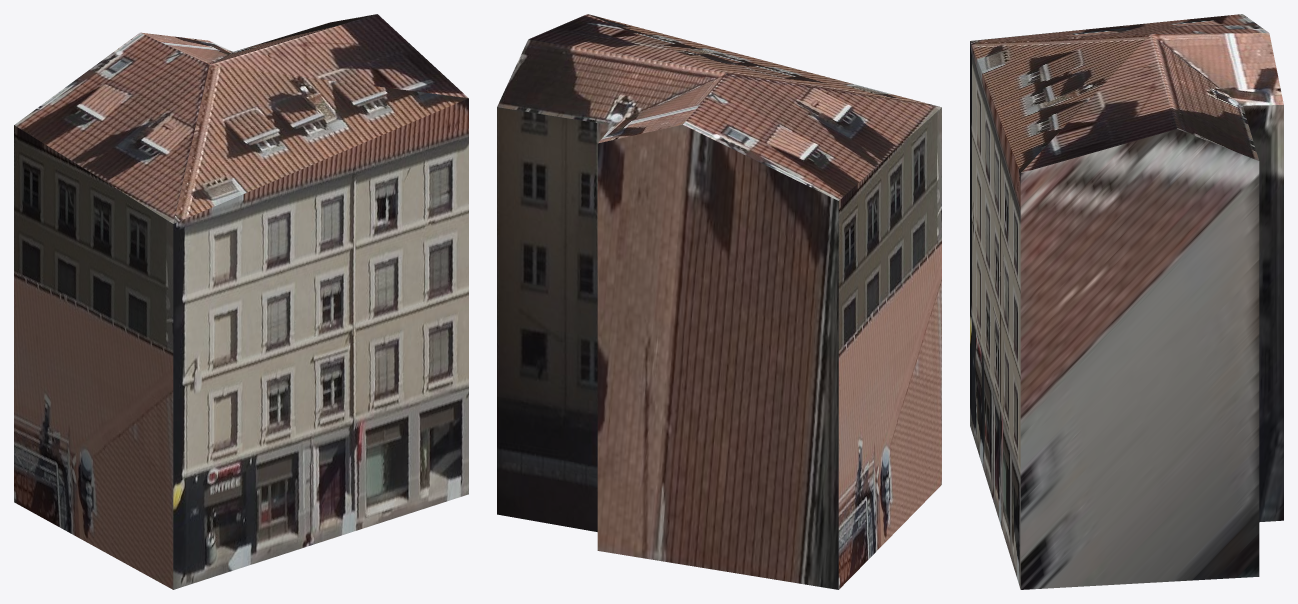
3 renders of one model, left to right at view 1: azimuth 30°, elevation 25°; view 2: azimuth 150°, elevation 25°; view 3: azimuth 270°, elevation 25°, orthographic. The views are drawn at different scales.
Visible parts, largest first — view 1: Z_UP; view 2: Z_UP; view 3: Z_UP.
Boxes of the visible parts, left/top/right/bottom form: Z_UP: left=14, top=14, right=468, bottom=589; Z_UP: left=497, top=14, right=941, bottom=589; Z_UP: left=970, top=14, right=1283, bottom=589.
Size of the model in its own units: 16.09 by 19.04 by 11.91.
Materials: 2 (1 with a texture image).
